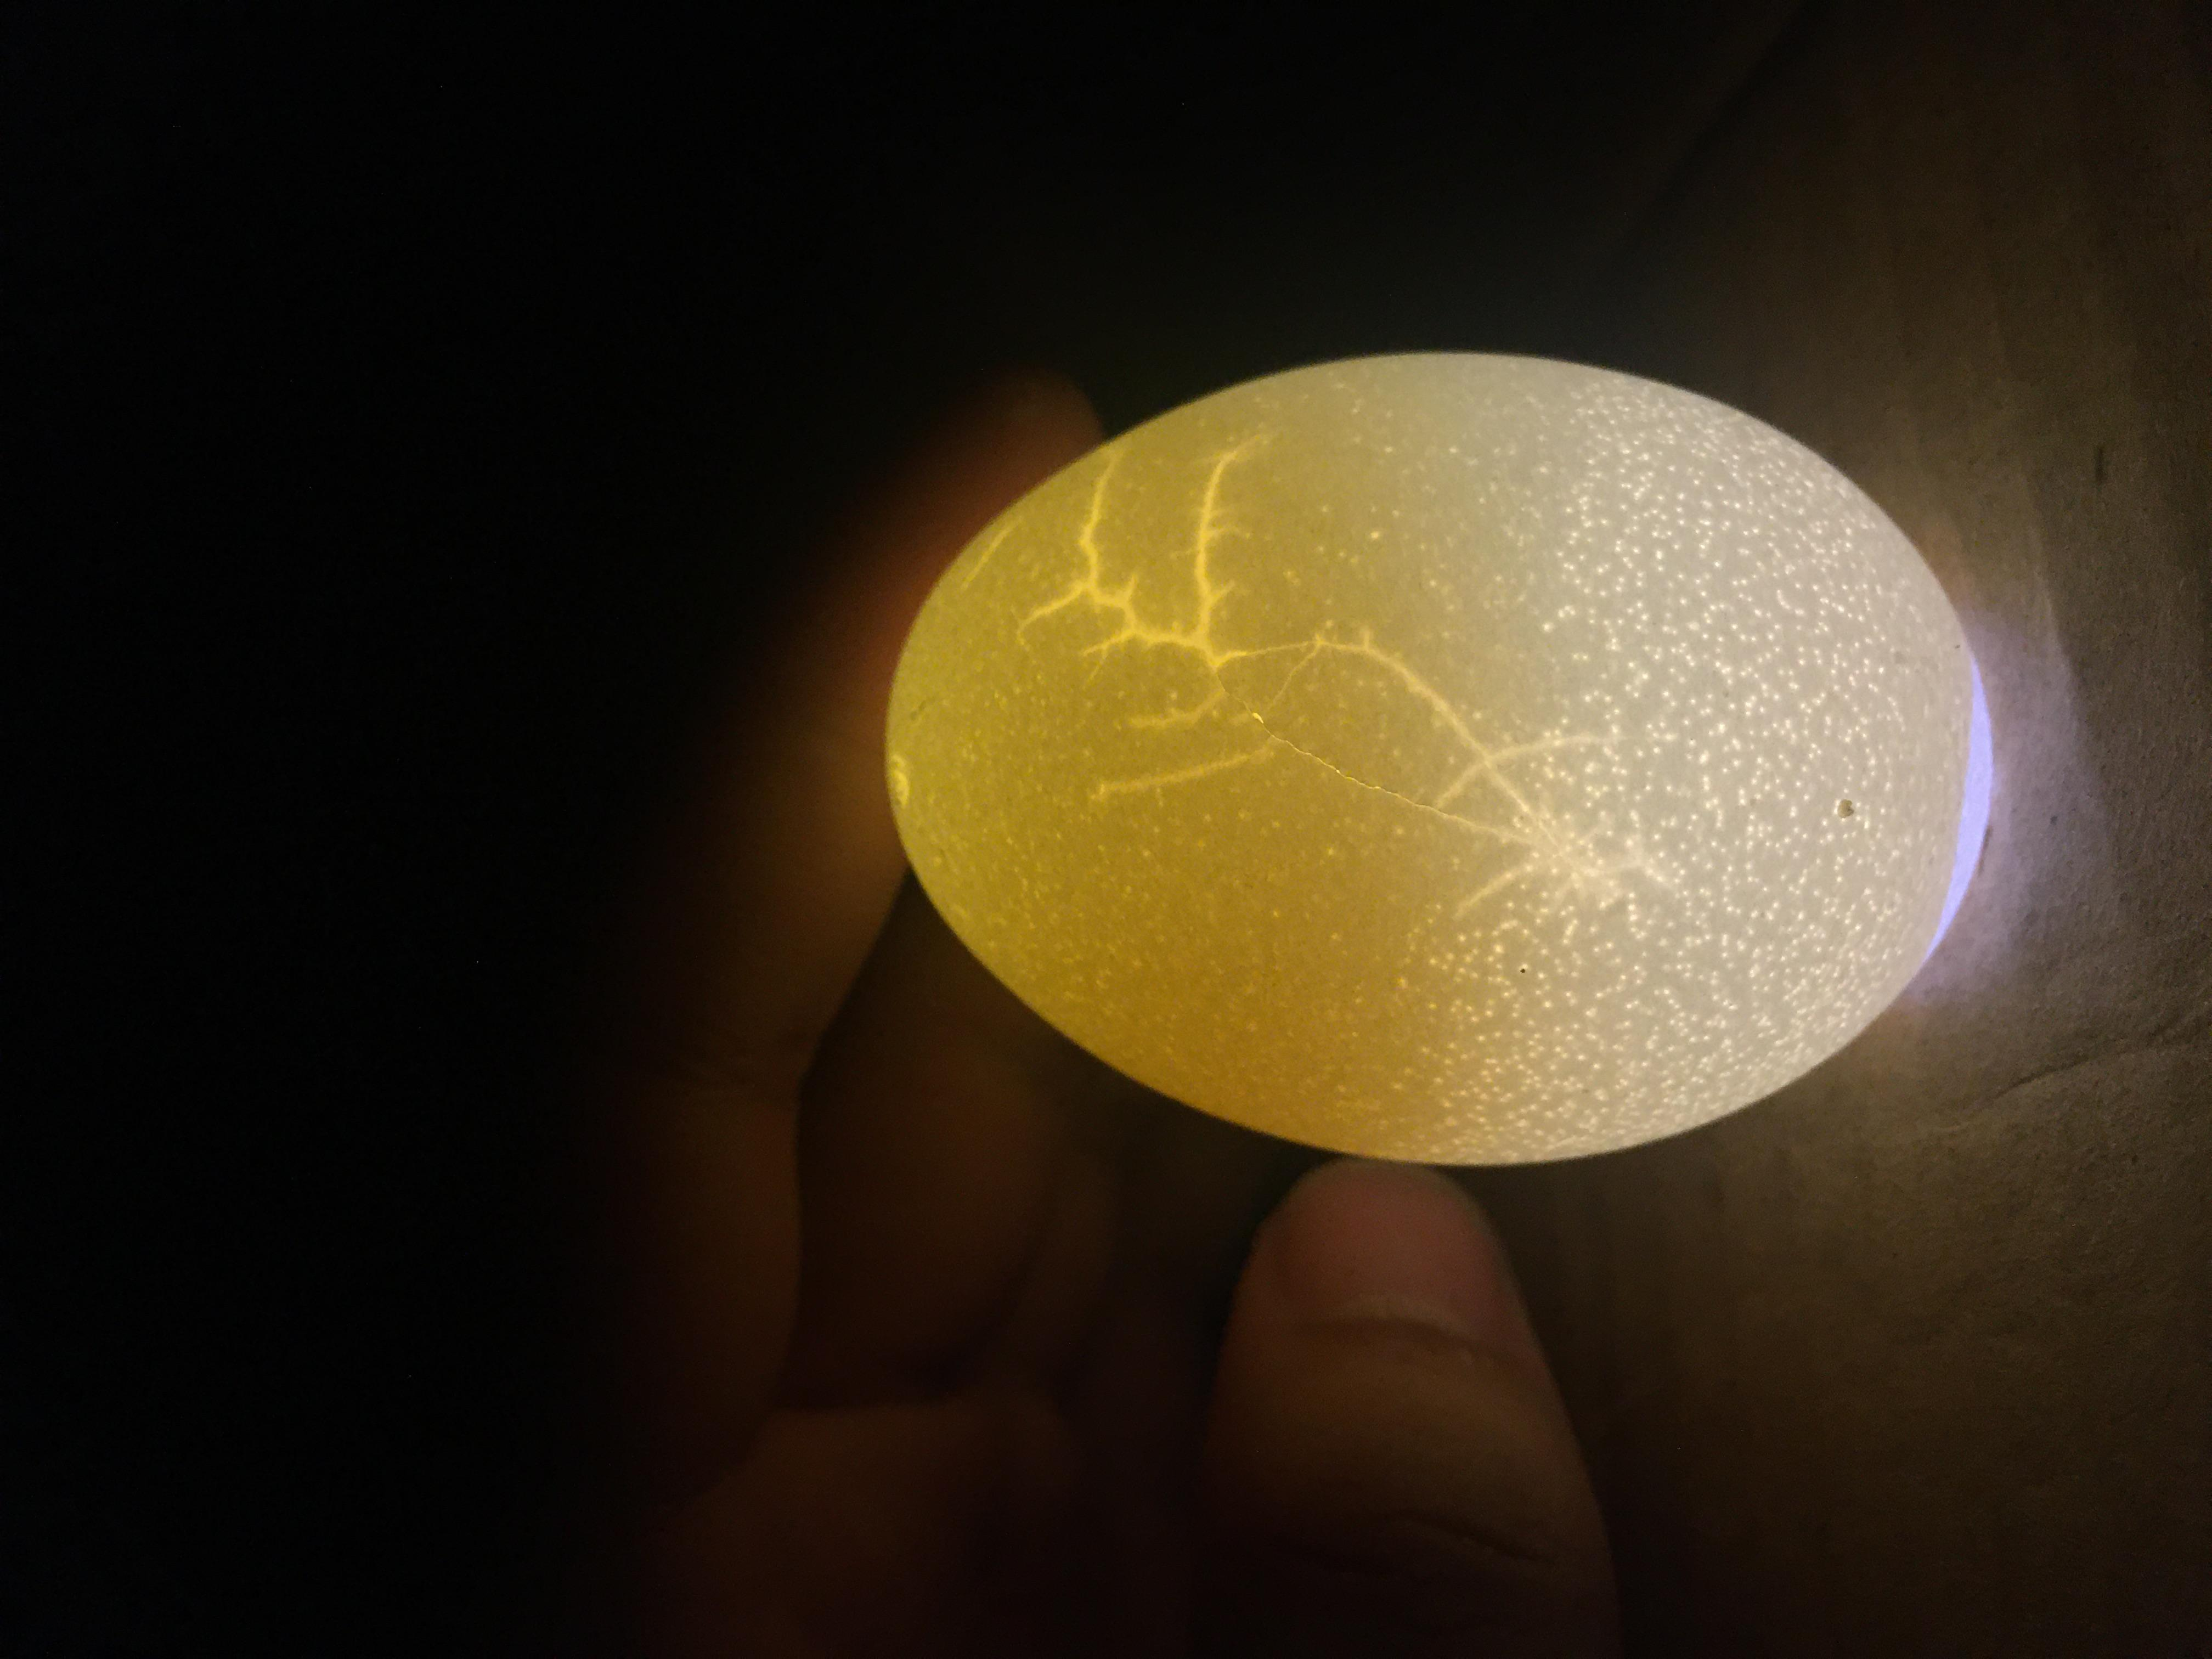B - Fair: (639, 647, 1756, 1507)
